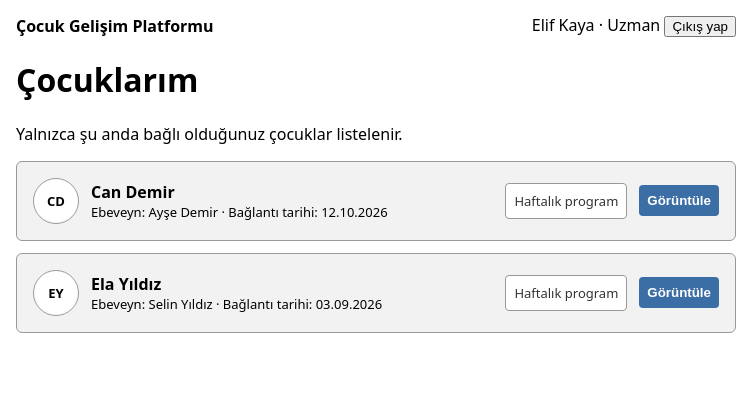
it: SpecialistChildrenPage › says so when the child has no tasks
Click the button "Görüntüle" in the row of "12.10.2026" at (679, 201), box [639, 185, 719, 216]
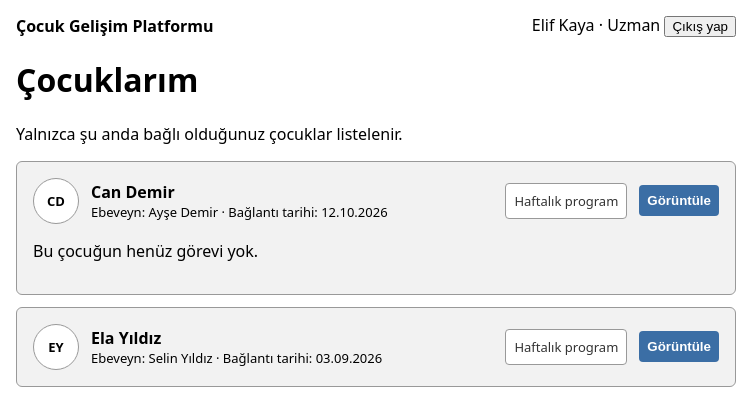
Expected: the text "Bu çocuğun henüz görevi yok." is shown, [33, 240, 258, 262]
